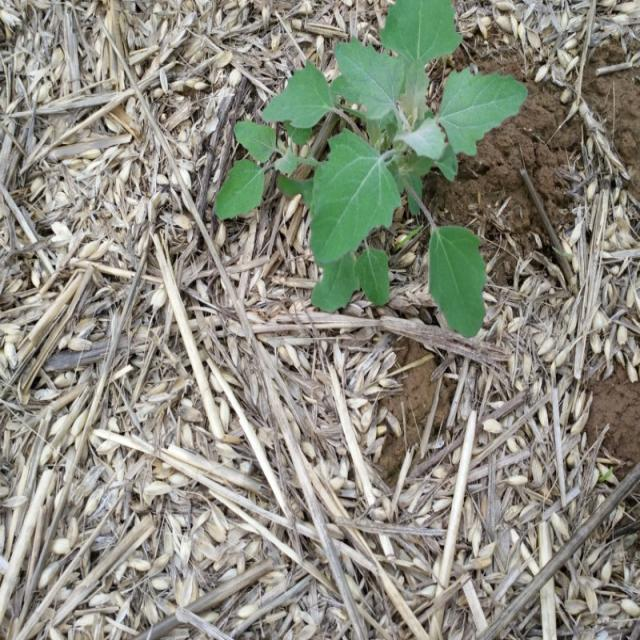goosefoots: (212, 20, 518, 345)
